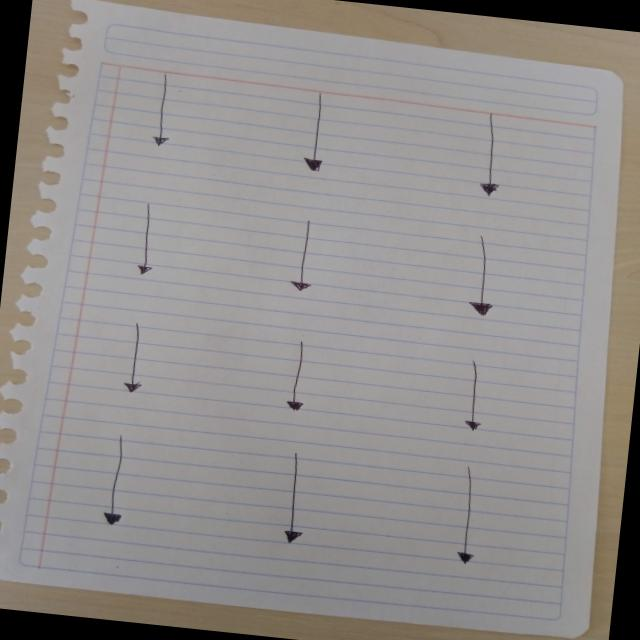arrow_line_down: (271, 452, 332, 552), (94, 430, 144, 532), (445, 358, 500, 445), (458, 235, 508, 328), (298, 90, 347, 184), (450, 467, 495, 568), (468, 111, 514, 206), (119, 203, 172, 282), (272, 218, 324, 294), (138, 72, 188, 148), (108, 317, 154, 399), (274, 339, 318, 418)
